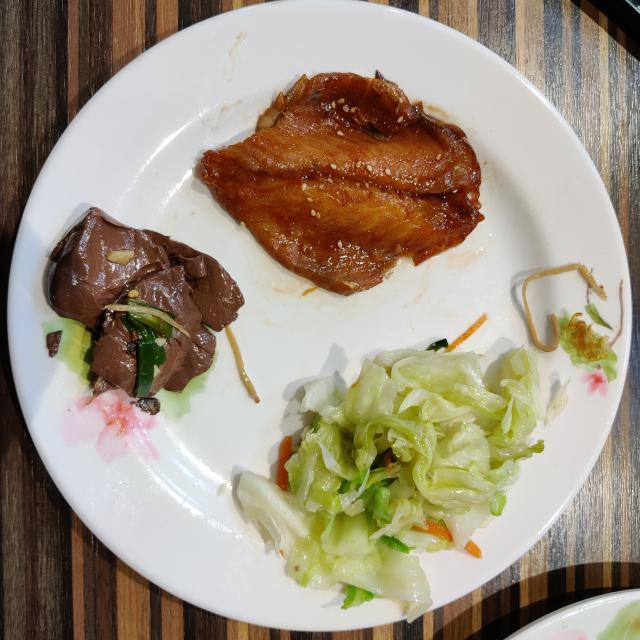Kabayaki sea bream fillet: (201, 72, 482, 295)
cabbage: (238, 348, 544, 620)
pig blood curd: (48, 208, 244, 398)
